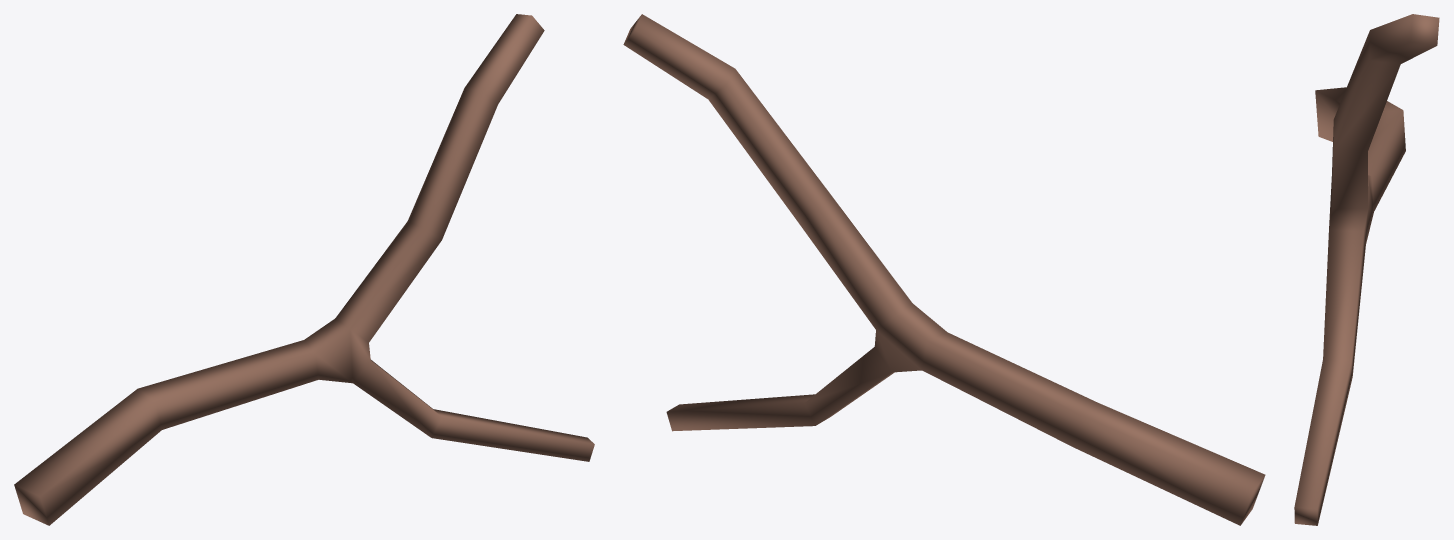
File: Stick_LightBrown_6.fbx
The picture shows the model from 3 angles, left to right: view 1: azimuth 30°, elevation 25°; view 2: azimuth 150°, elevation 25°; view 3: azimuth 270°, elevation 25°; orthographic projection. The views are drawn at different scales.
Visible parts, largest first — view 1: Stick_LightBrown_6; view 2: Stick_LightBrown_6; view 3: Stick_LightBrown_6.
Boxes of the visible parts, left/top/right/bottom form: Stick_LightBrown_6: left=14, top=14, right=594, bottom=525; Stick_LightBrown_6: left=623, top=14, right=1265, bottom=525; Stick_LightBrown_6: left=1294, top=14, right=1439, bottom=525.
Bounding box in the file's own units: 216 × 154 × 40.
